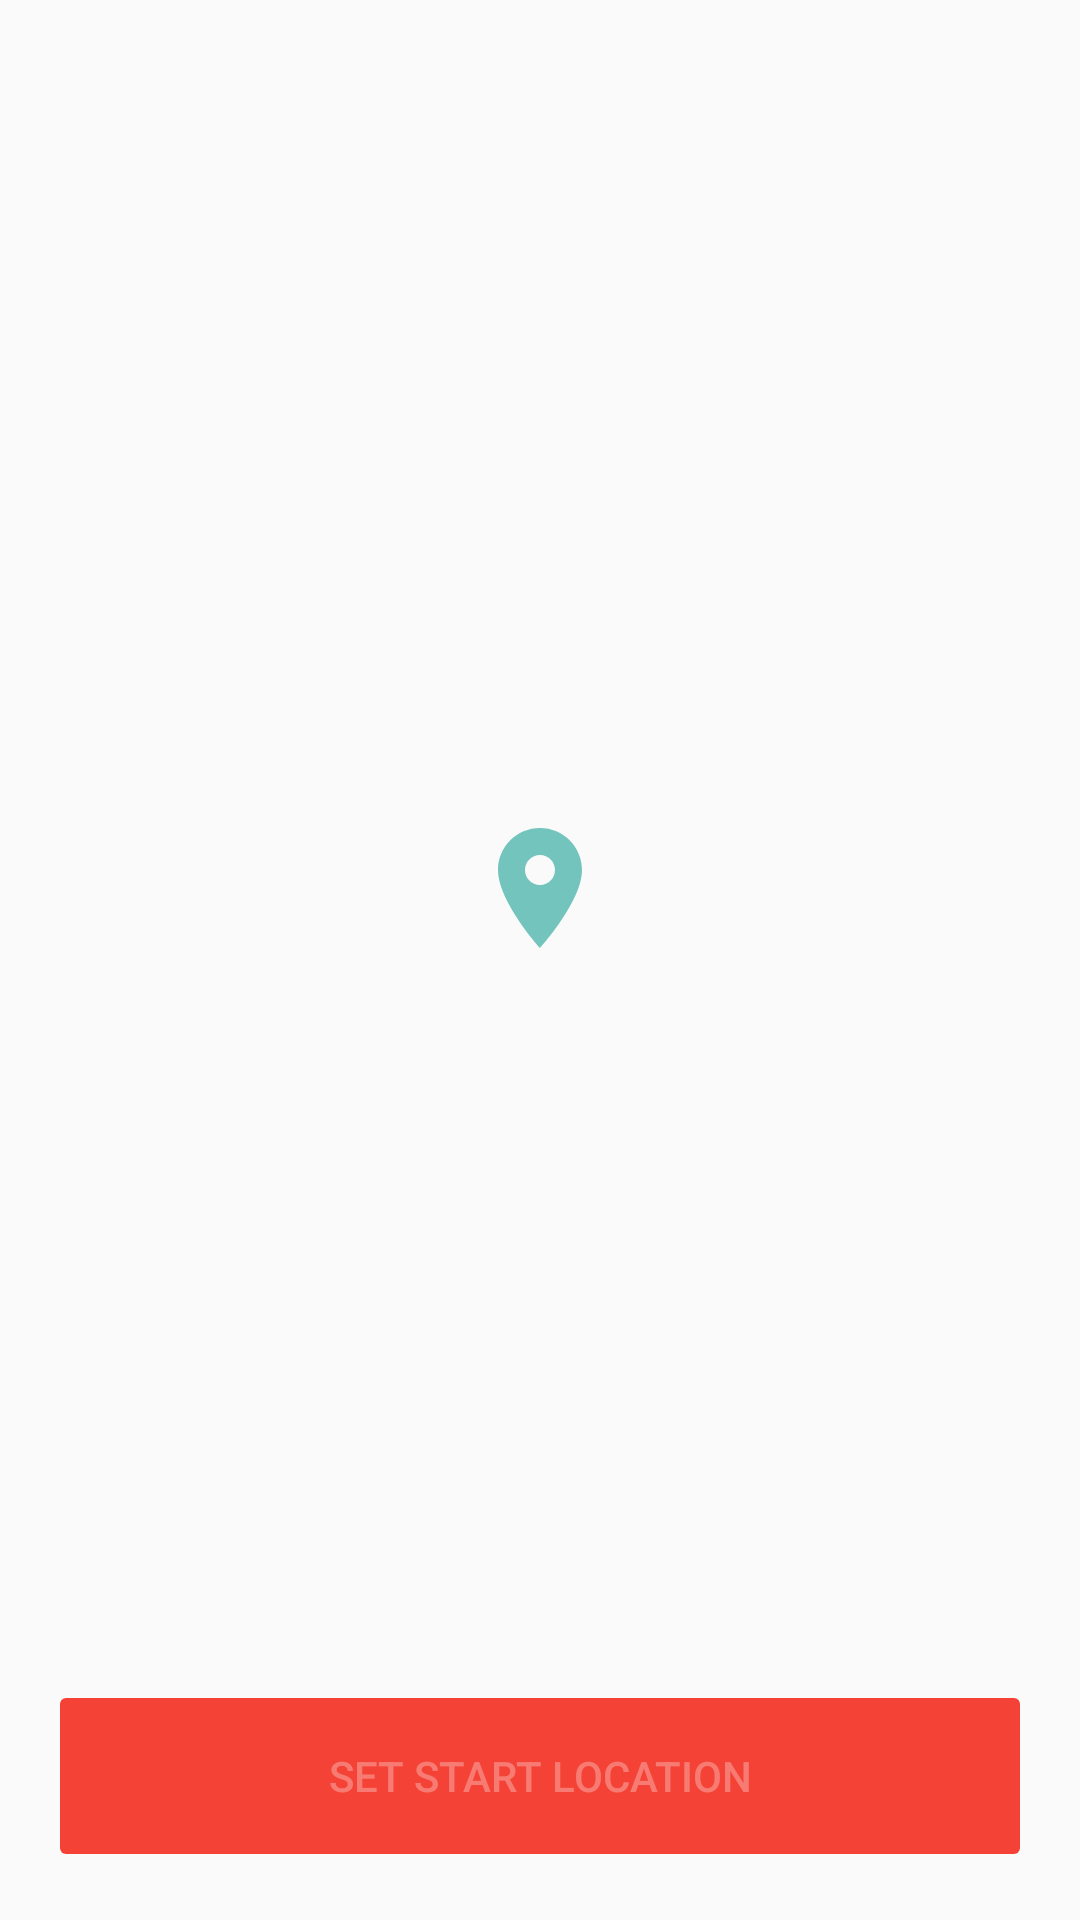

Icons on this 1080x1920 Android screen, each with its box as (x1, y1, x2, y2):
place: (498, 828, 582, 948)
